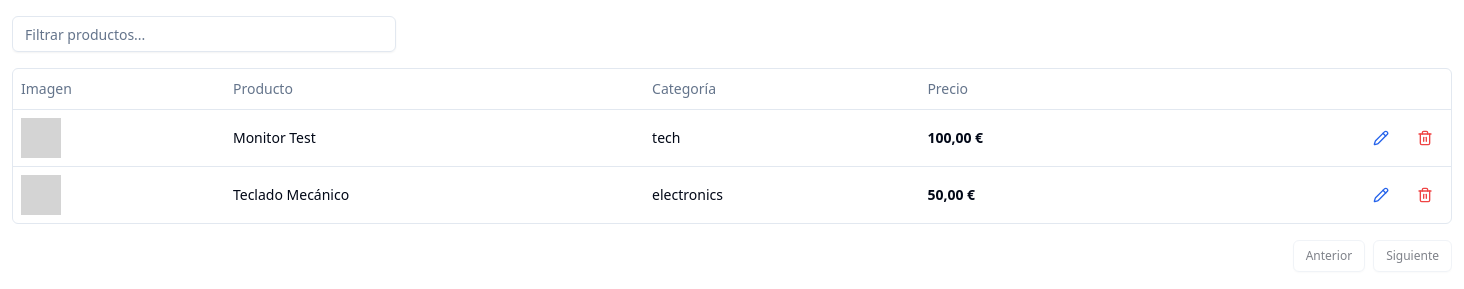
Test: DataTable Component › Filters products by title when user types
The width and height of the screenshot is (1464, 289).
Expected: the text "Monitor Test" is shown, [233,128,316,146]
Expected: the text "Teclado Mecánico" is shown, [233,184,349,204]
Type "Monitor" into the field with placeholder "Filtrar productos...".
click(204, 34); type("Monitor")  # box [12,16,396,52]
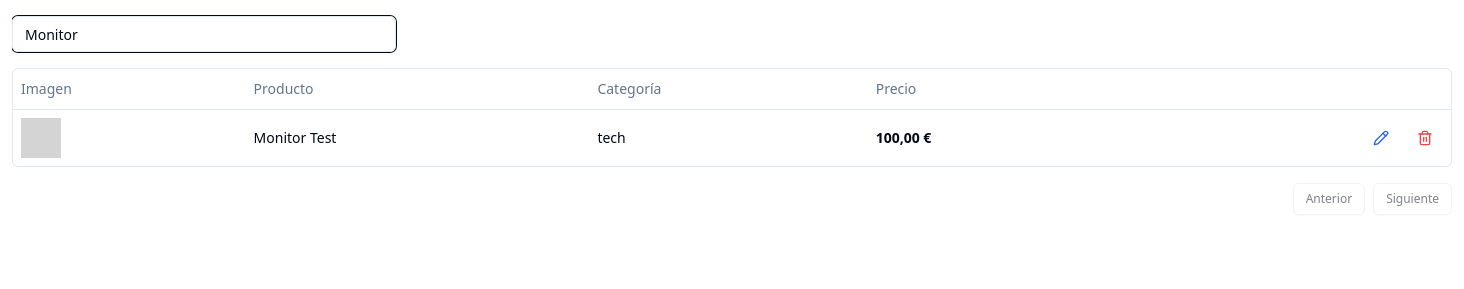
Expected: the text "Monitor Test" is shown, [254,128,336,146]
Result: the text "Teclado Mecánico" is gone
